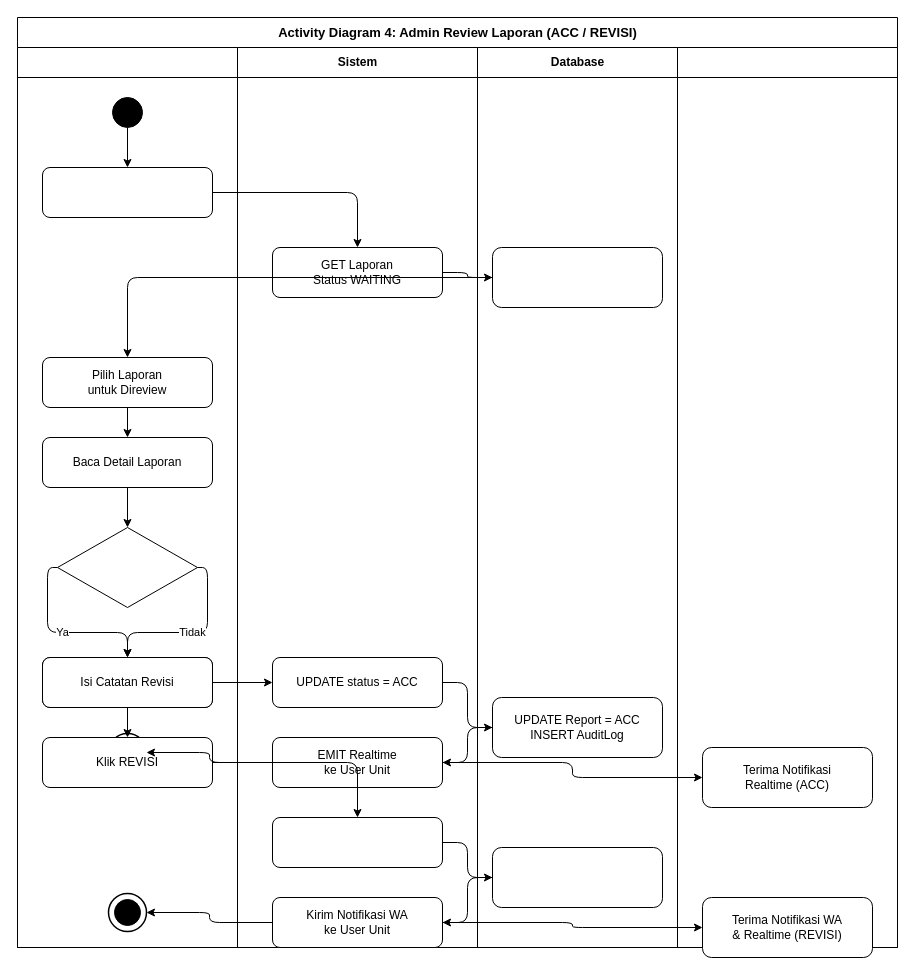
The diagram is 915 pixels wide and 975 high, and some of its shapes have lost their labels. The box of each missing label's shape, as (x1, y1, x2, y2) in pixels:
Admin Global: (16, 46, 238, 948)
Buka Dashboard Laporan: (42, 166, 212, 218)
Laporan Sudah Sesuai?: (56, 526, 198, 608)
SELECT Reports WHERE status = WAITING: (492, 246, 662, 308)
UPDATE Report = REVISI INSERT AuditLog: (492, 846, 662, 908)
UPDATE status = REVISI: (272, 816, 442, 868)
User Unit: (676, 46, 898, 948)
